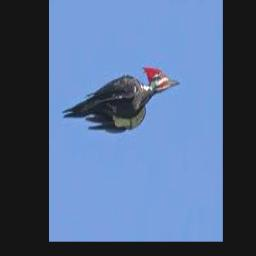Woodpecker: (62, 66, 180, 132)
